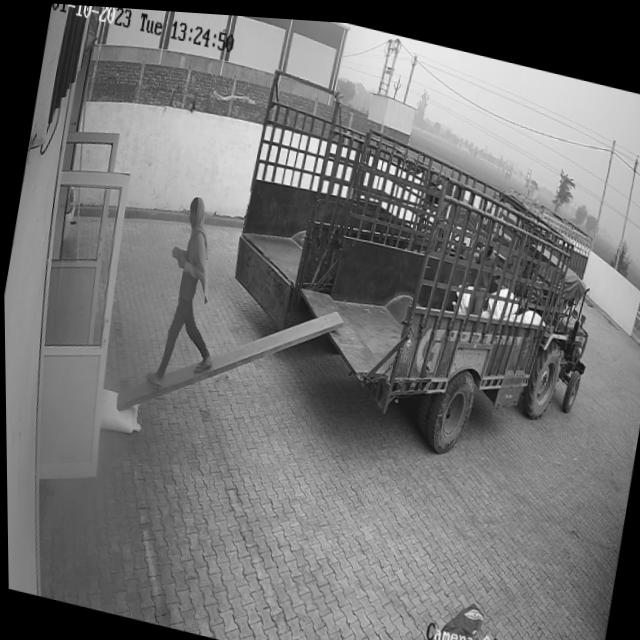sack: (94, 385, 145, 433)
